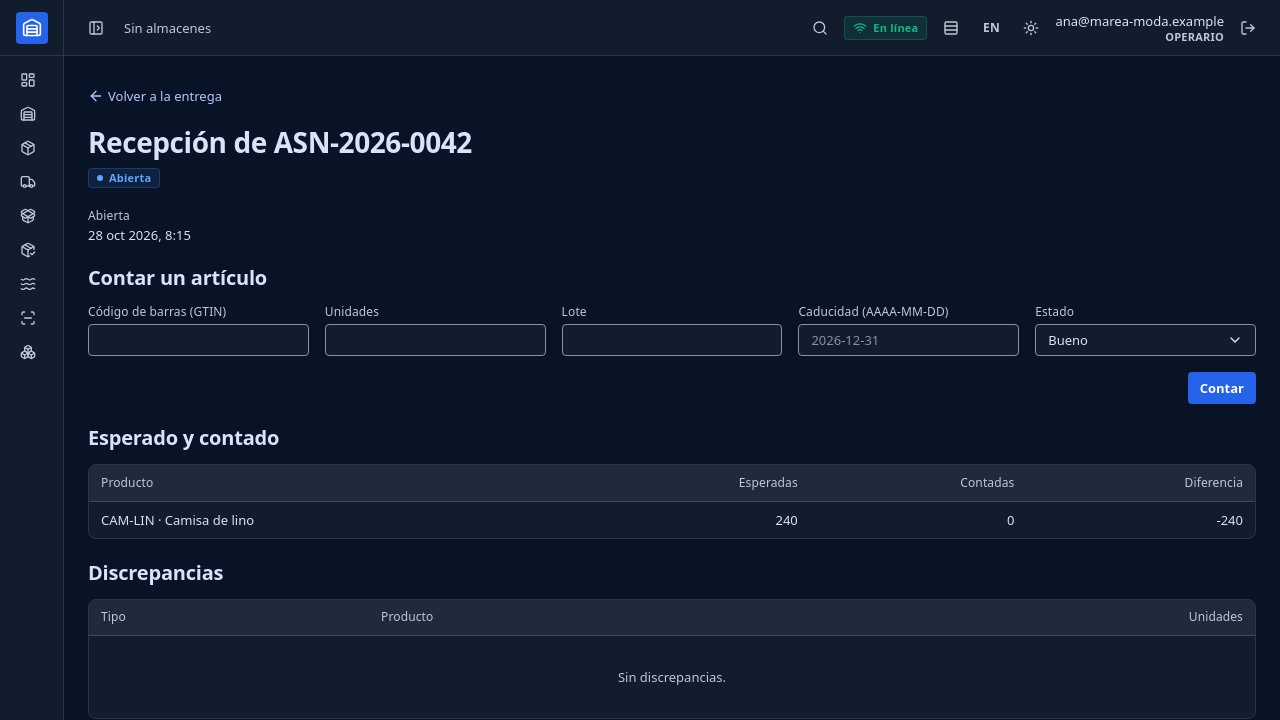
Test case: a receipt at the dock › shows why the API refuses a count, and keeps what was typed
The image size is (1280, 720).
Type "8412345678905" into the field labelled "Código de barras (GTIN)" at (198, 340), box [88,324,309,356]
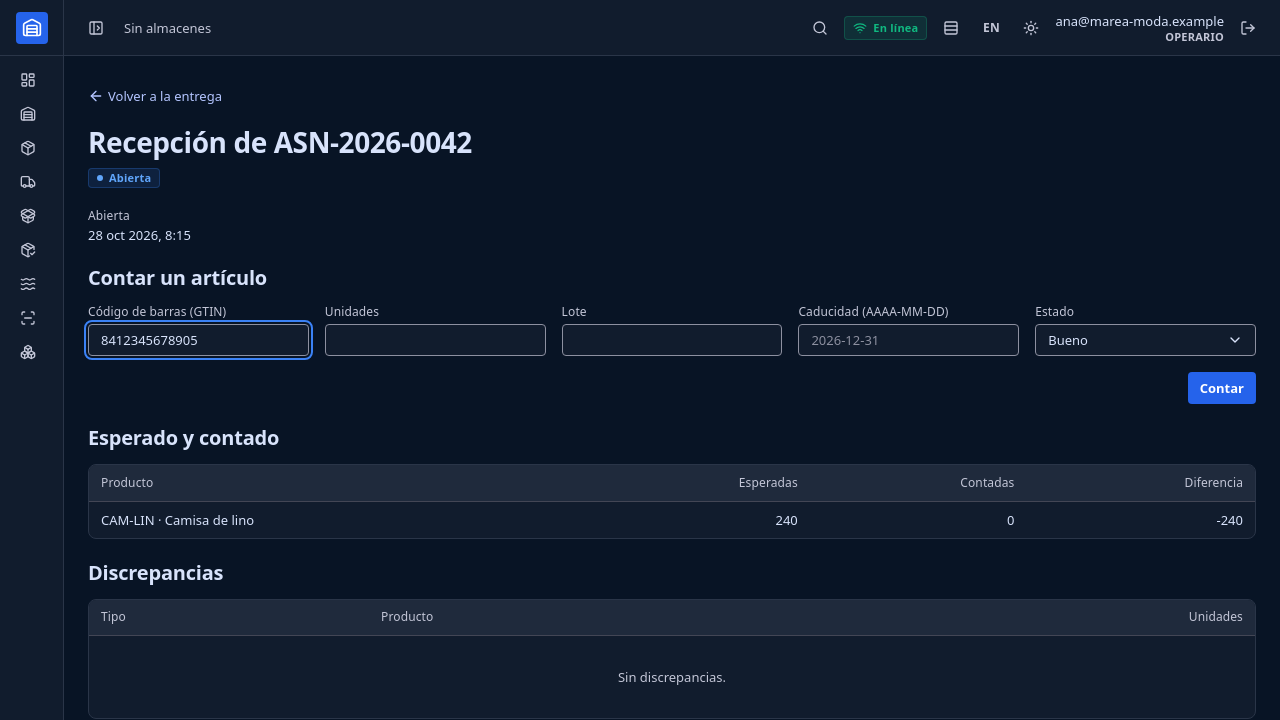
Type "5" into the field labelled "Unidades" at (435, 340), box [325,324,546,356]
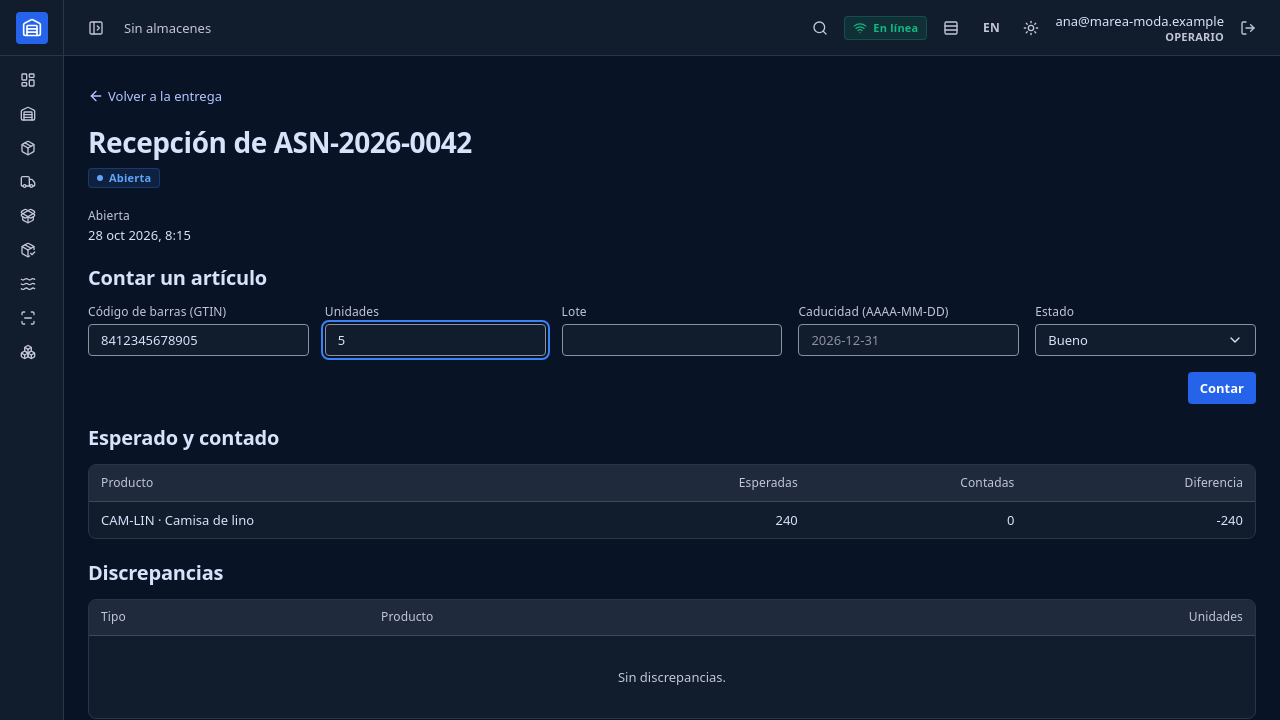
Click the button "Contar" at (1222, 388), box [1188,372,1256,404]
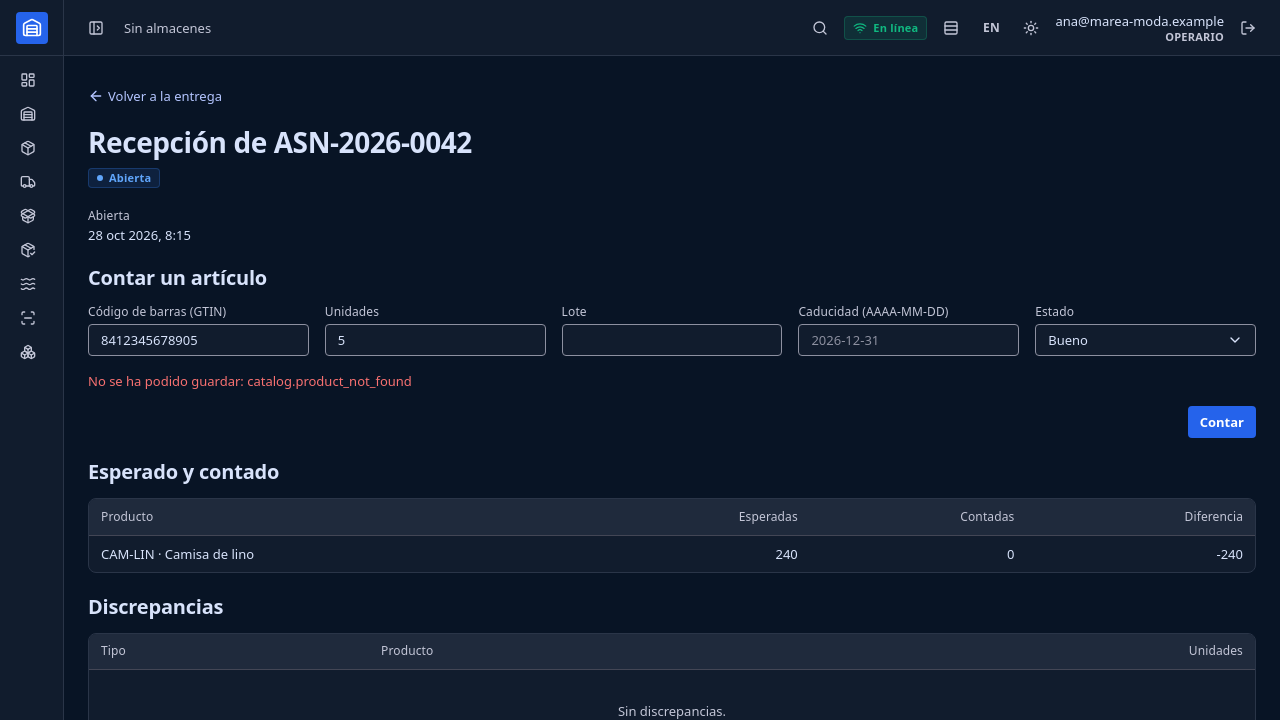
Check: the message "No se ha podido guardar: catalog.product_not_found" is shown, box [88,372,412,390]
